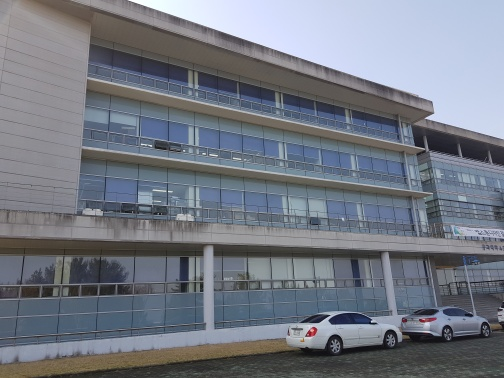Engineering College Building 4: (25, 17, 504, 334), (78, 44, 409, 304), (452, 228, 502, 262)
